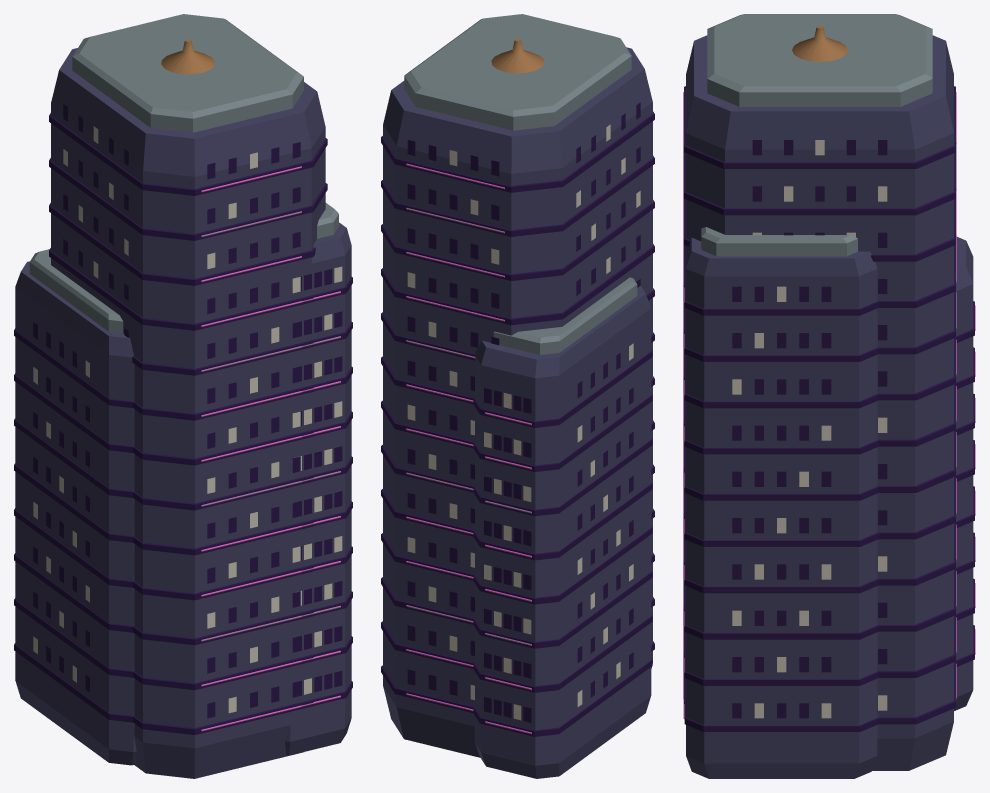
The model's file is landmark_vespera.glb.
The picture shows the model from 3 angles, left to right: view 1: azimuth 30°, elevation 25°; view 2: azimuth 150°, elevation 25°; view 3: azimuth 270°, elevation 25°; orthographic projection. The views are drawn at different scales.
Visible parts, largest first — view 1: landmark_vespera; view 2: landmark_vespera; view 3: landmark_vespera.
Part boxes in pixels (left/top/right/bottom): landmark_vespera: left=14, top=14, right=352, bottom=778; landmark_vespera: left=381, top=14, right=654, bottom=778; landmark_vespera: left=683, top=14, right=975, bottom=778.
Size of the model in its own units: 20.12 by 60.57 by 22.91.
